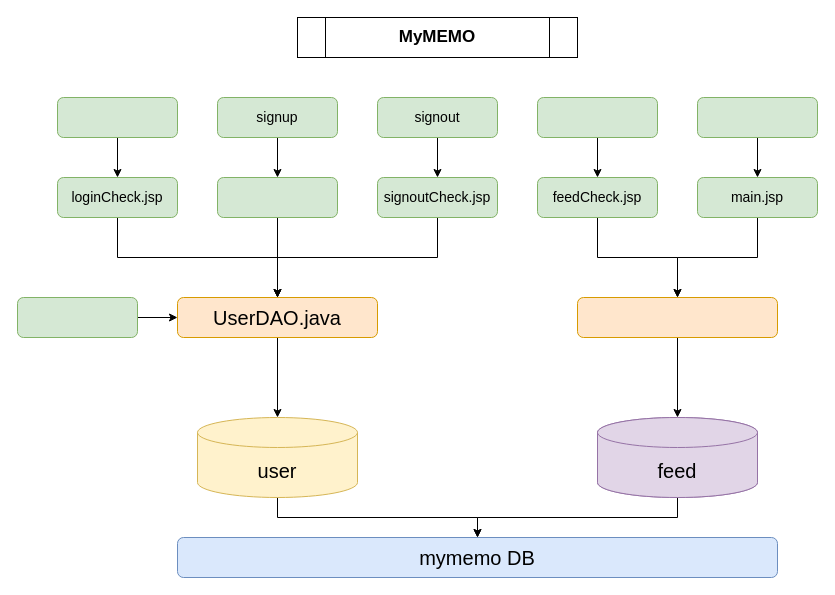
The diagram is 835 pixels wide and 595 high, and some of its shapes have lost their labels. The shapes that lost their labels are listed below. From the top down, each one's centre as x and y in pixels, then its label:
At point 117,117: "login".
At point 597,117: "feedadd".
At point 757,117: "index".
At point 277,197: "signupCheck.jsp".
At point 77,317: "logout".
At point 677,317: "FeedDAO.java".
